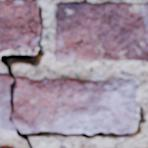brick: (56, 2, 147, 60), (0, 0, 39, 51), (30, 39, 36, 51), (0, 146, 14, 147)
broken_brick: (12, 75, 136, 132), (0, 72, 14, 131)
crack: (0, 0, 147, 147)
